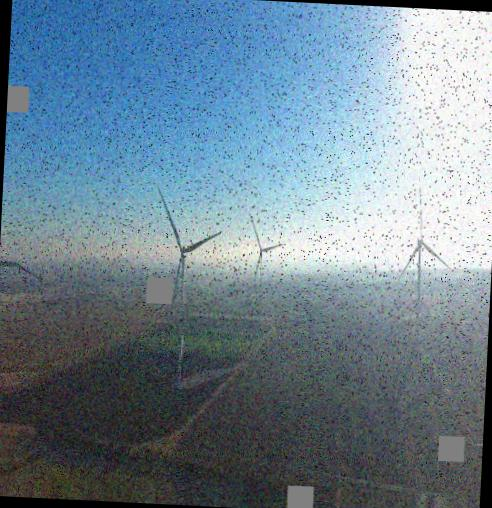wind turbine: (154, 187, 224, 389), (392, 188, 458, 305), (246, 213, 282, 304)
